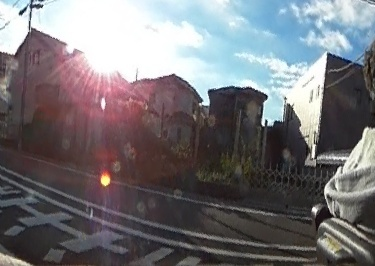person: (332, 21, 375, 261)
